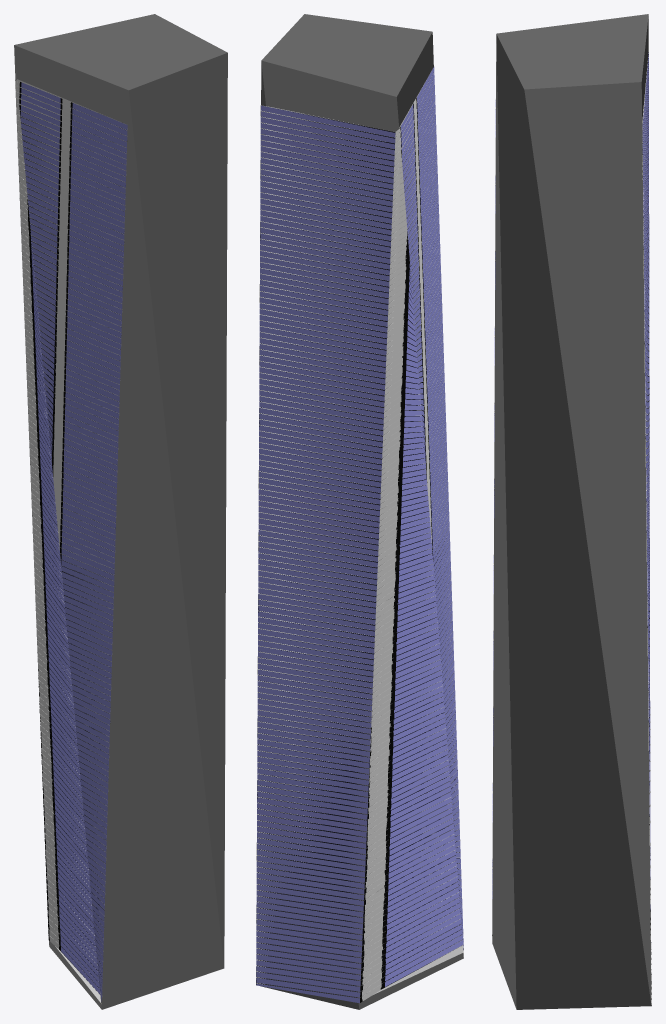
File: KensingtonTower.fbx
3 renders of one model, left to right at view 1: azimuth 30°, elevation 25°; view 2: azimuth 150°, elevation 25°; view 3: azimuth 270°, elevation 25°, orthographic.
Parts seen in each view (by area): view 1: KensingtonTower, Window.003, Window.002; view 2: Window.002, KensingtonTower, Window.003; view 3: KensingtonTower, Window.002, Window.003.
Part boxes in pixels (left/top/right/bottom): KensingtonTower: left=14, top=14, right=227, bottom=1009; Window.003: left=17, top=79, right=127, bottom=1001; Window.002: left=15, top=80, right=101, bottom=1003; Window.002: left=256, top=105, right=463, bottom=1003; KensingtonTower: left=256, top=14, right=463, bottom=1009; Window.003: left=399, top=66, right=463, bottom=949; KensingtonTower: left=492, top=14, right=651, bottom=1009; Window.002: left=642, top=52, right=651, bottom=1005; Window.003: left=492, top=99, right=495, bottom=935.
Bounding box in the file's own units: 5685 × 32442 × 5081.
